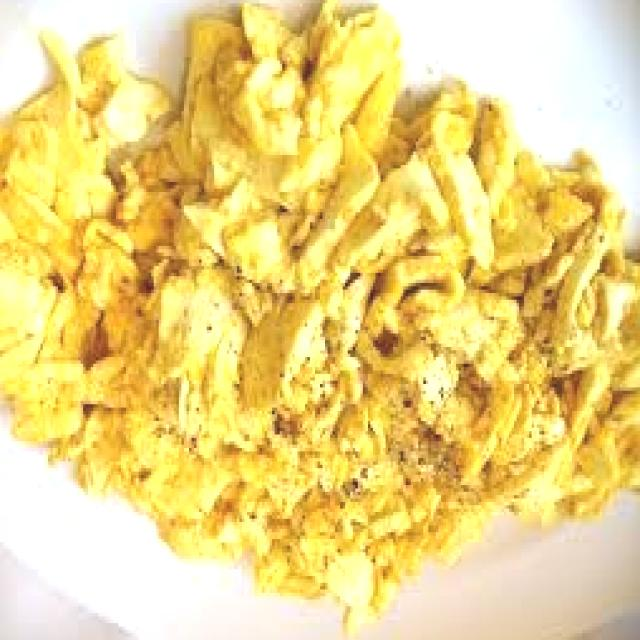telur_orak_arik: (0, 37, 640, 606)
